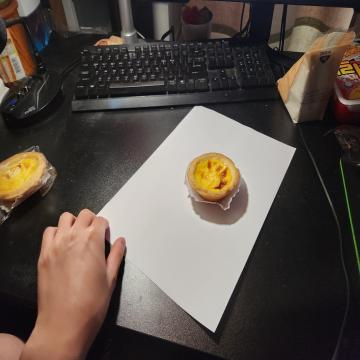EggTart: (188, 150, 240, 204)
